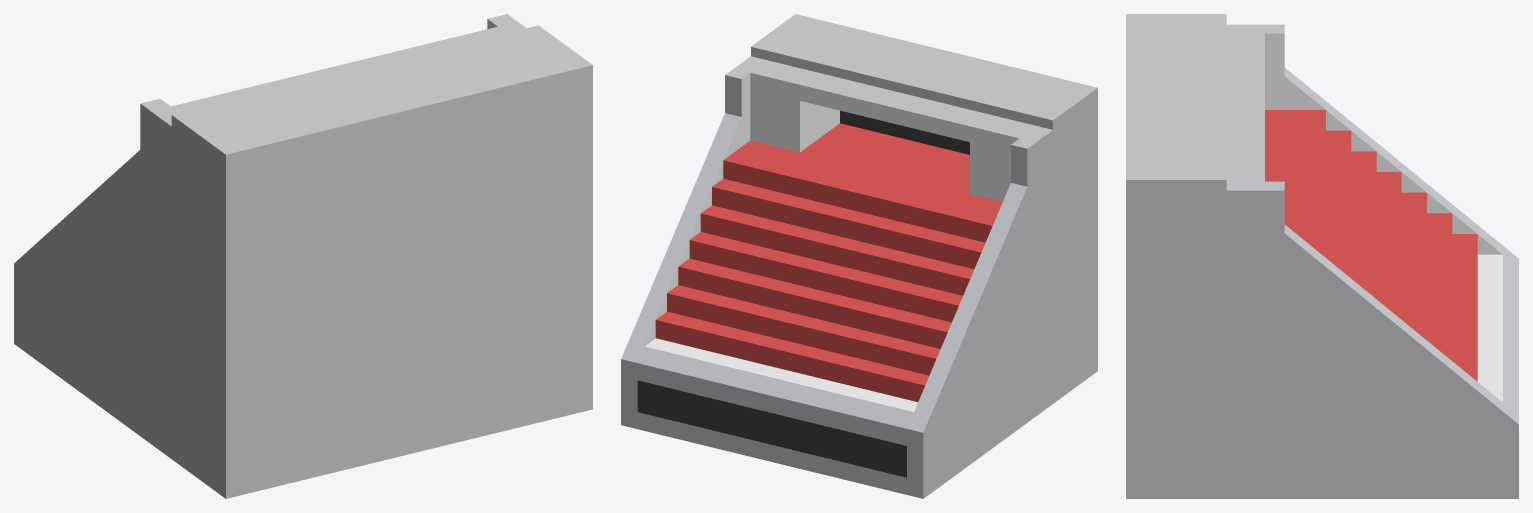
The model's file is grandStand.fbx.
3 renders of one model, left to right at view 1: azimuth 30°, elevation 25°; view 2: azimuth 150°, elevation 25°; view 3: azimuth 270°, elevation 25°, orthographic. The views are drawn at different scales.
Parts seen in each view (by area): view 1: grandStand; view 2: grandStand; view 3: grandStand.
Boxes of the visible parts, x1,y1,x2,y2 form: grandStand: [14, 14, 592, 498]; grandStand: [621, 14, 1097, 498]; grandStand: [1126, 14, 1518, 498].
Bounding box in the file's own units: 10 × 8.96 × 10.
